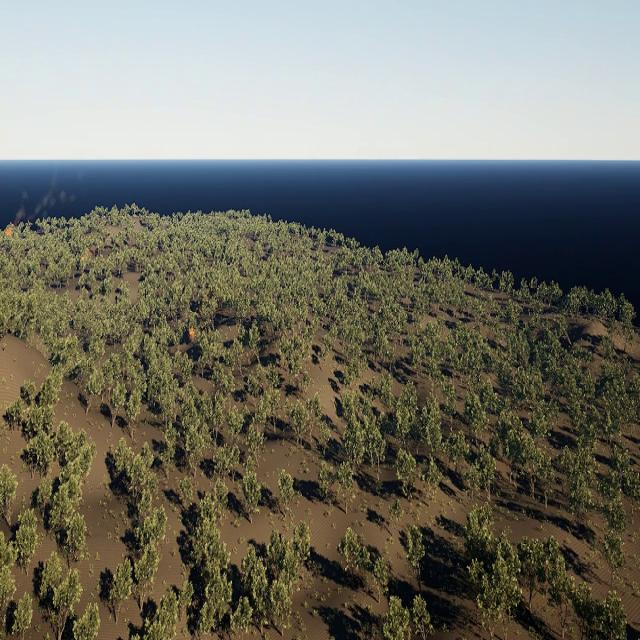fire: (2, 223, 14, 236), (189, 326, 196, 339), (81, 254, 85, 260)
smoke: (12, 169, 76, 223)
